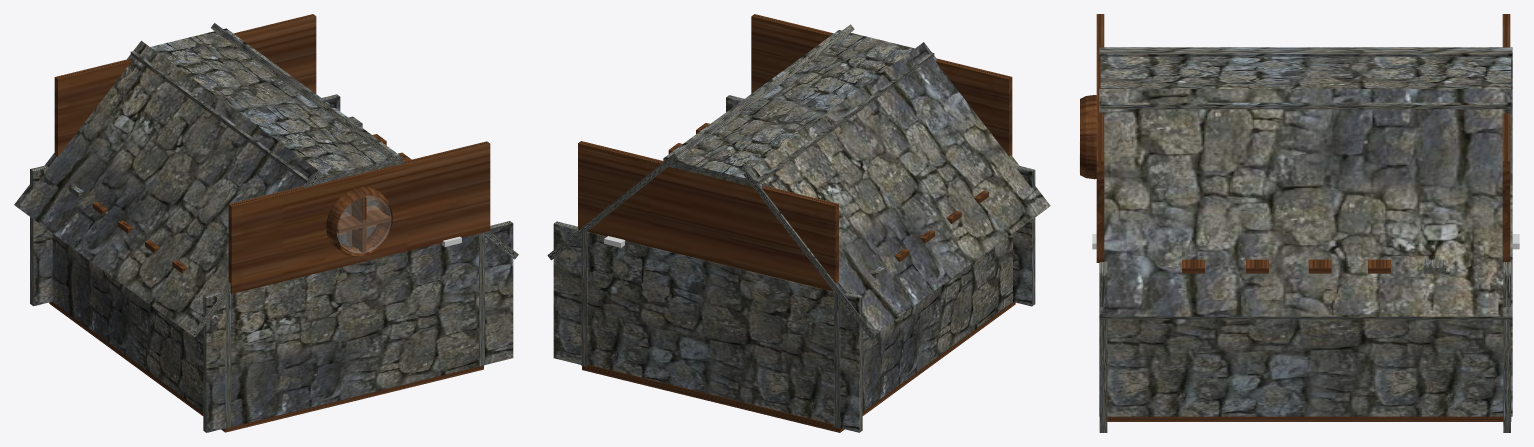
The model's file is class2.fbx.
3 views of the same model, side by side, from view 1: azimuth 30°, elevation 25°; view 2: azimuth 150°, elevation 25°; view 3: azimuth 270°, elevation 25° (orthographic). The views are drawn at different scales.
Visible parts, largest first — view 1: Cube.005, Cube.003, Cube.009, Cube.007, Cube.001, Cube.008, Torus, Torus.001, Cube.004, Cube, Cube.006, Cube.002; view 2: Cube.005, Cube.004, Cube.008, Cube.007, Cube.001, Cube.009, Cube, Cube.006, Cube.003, Cube.002; view 3: Cube.006, Cube.002, Cube.007, Cube.005, Cube, Cube.009, Cube.008, Cube.003, Torus, Cube.004.
Part boxes in pixels (x1=…): Cube.005: x1=14, y1=40, x2=322, y2=337; Cube.003: x1=203, y1=221, x2=513, y2=432; Cube.009: x1=228, y1=141, x2=490, y2=293; Cube.007: x1=130, y1=28, x2=402, y2=185; Cube.001: x1=52, y1=233, x2=231, y2=428; Cube.008: x1=54, y1=14, x2=316, y2=156; Torus: x1=326, y1=187, x2=392, y2=256; Torus.001: x1=337, y1=196, x2=391, y2=253; Cube.004: x1=30, y1=94, x2=340, y2=306; Cube: x1=49, y1=301, x2=483, y2=432; Cube.006: x1=211, y1=23, x2=518, y2=259; Cube.002: x1=337, y1=199, x2=484, y2=366; Cube.005: x1=743, y1=42, x2=1050, y2=337; Cube.004: x1=553, y1=221, x2=862, y2=432; Cube.008: x1=578, y1=141, x2=838, y2=291; Cube.007: x1=663, y1=30, x2=934, y2=186; Cube.001: x1=834, y1=234, x2=1012, y2=428; Cube.009: x1=751, y1=14, x2=1012, y2=156; Cube: x1=582, y1=302, x2=1015, y2=432; Cube.006: x1=547, y1=24, x2=854, y2=260; Cube.003: x1=726, y1=95, x2=1035, y2=306; Cube.002: x1=581, y1=231, x2=587, y2=366; Cube.006: x1=1099, y1=89, x2=1512, y2=319; Cube.002: x1=1099, y1=319, x2=1512, y2=416; Cube.007: x1=1100, y1=56, x2=1511, y2=109; Cube.005: x1=1099, y1=47, x2=1512, y2=88; Cube: x1=1107, y1=416, x2=1511, y2=421; Cube.009: x1=1096, y1=14, x2=1104, y2=262; Cube.008: x1=1502, y1=14, x2=1510, y2=262; Cube.003: x1=1099, y1=261, x2=1107, y2=432; Torus: x1=1080, y1=95, x2=1096, y2=179; Cube.004: x1=1503, y1=261, x2=1510, y2=432.
Size of the model in its own units: 692 by 485 by 690.
